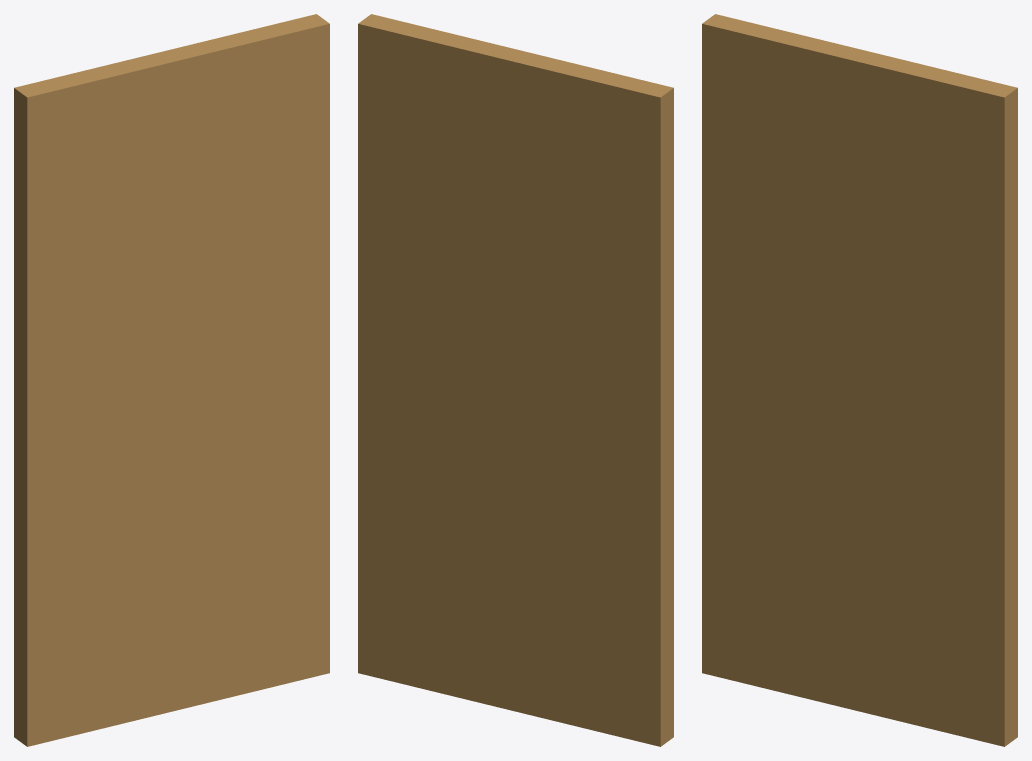
The picture shows the model from 3 angles, left to right: view 1: azimuth 30°, elevation 25°; view 2: azimuth 150°, elevation 25°; view 3: azimuth 330°, elevation 25°; orthographic projection.
Parts seen in each view (by area): view 1: FF-W072; view 2: FF-W072; view 3: FF-W072.
Boxes of the visible parts, x1,y1,x2,y2 form: FF-W072: (14,14,329,746); FF-W072: (358,14,673,746); FF-W072: (702,14,1017,746).
Bounding box in the file's own units: 1.18 × 2.42 × 0.0901.
